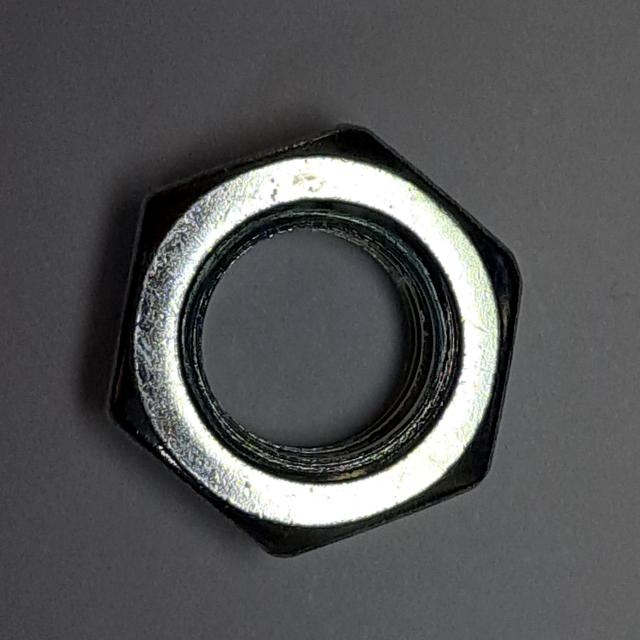Excellent: (91, 102, 536, 575)
